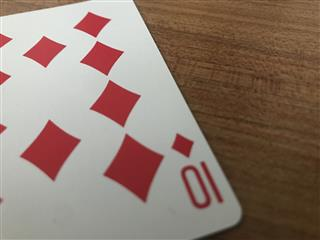TenOfDiamonds: (1, 1, 244, 240)
